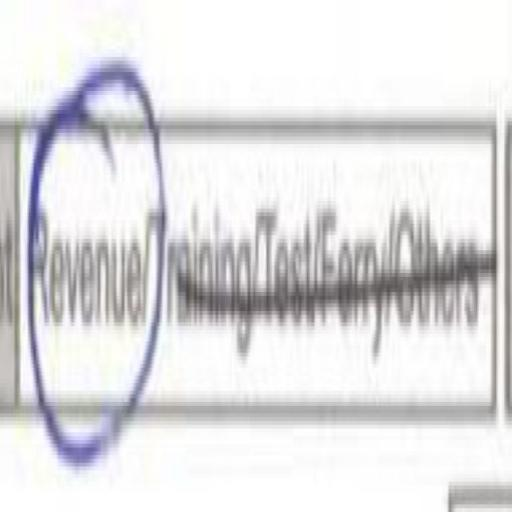check: (32, 31, 150, 494)
